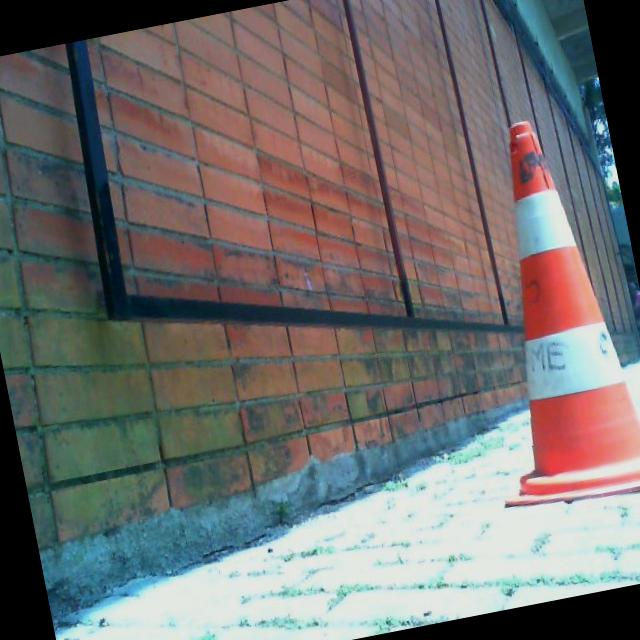Cone: (436, 107, 640, 513)
